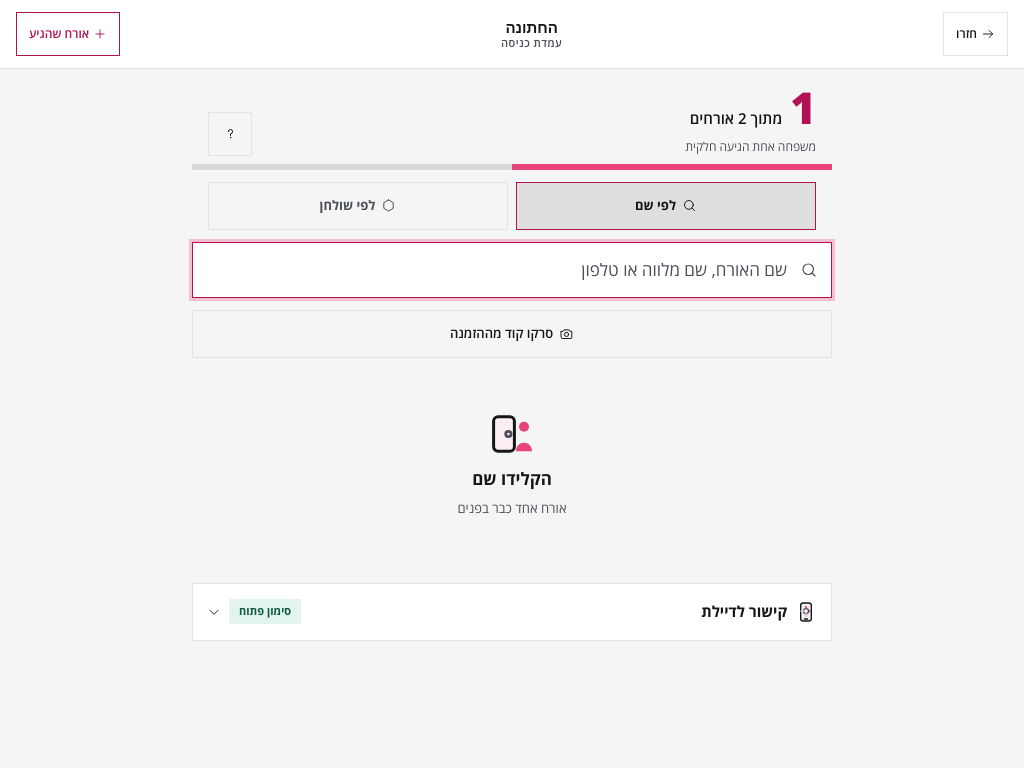
Test: the host's door merges the greeter's marks against the base › host marked נועה (newer clock), greeter marked דן: both are in
Type "דן" into the search field named "חיפוש אורח". click: (512, 270)
box: [192,242,832,298]
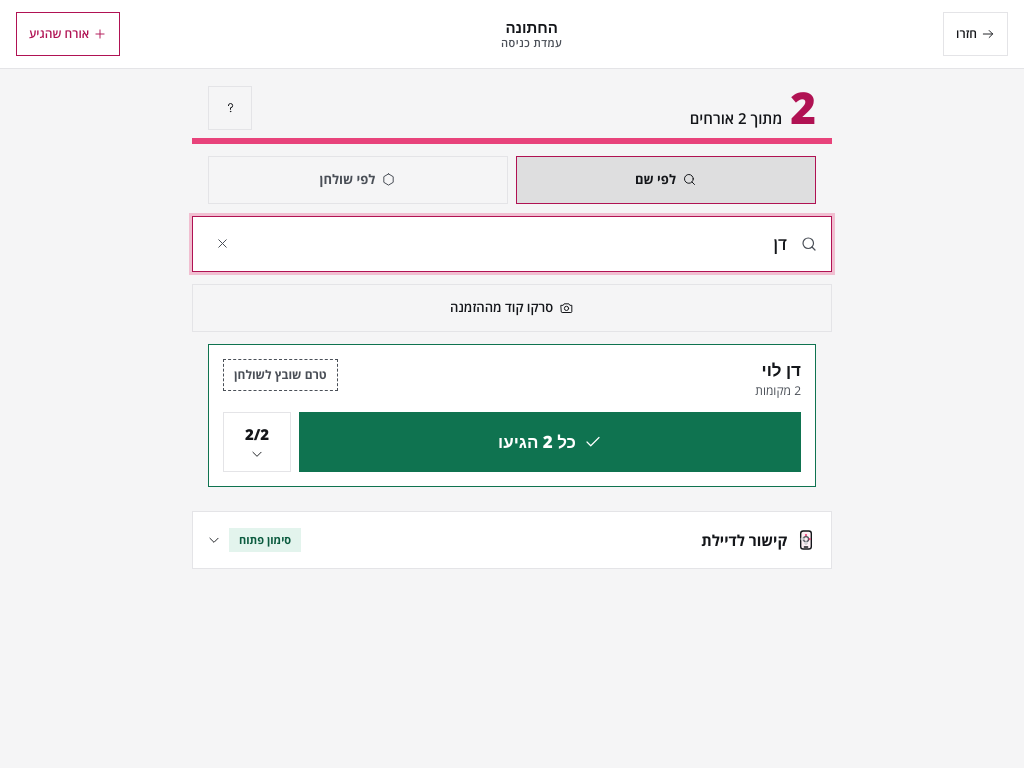
Expected: the button with aria-label "כל 2 הגיעו — דן לוי" is shown, [299,412,801,472]
